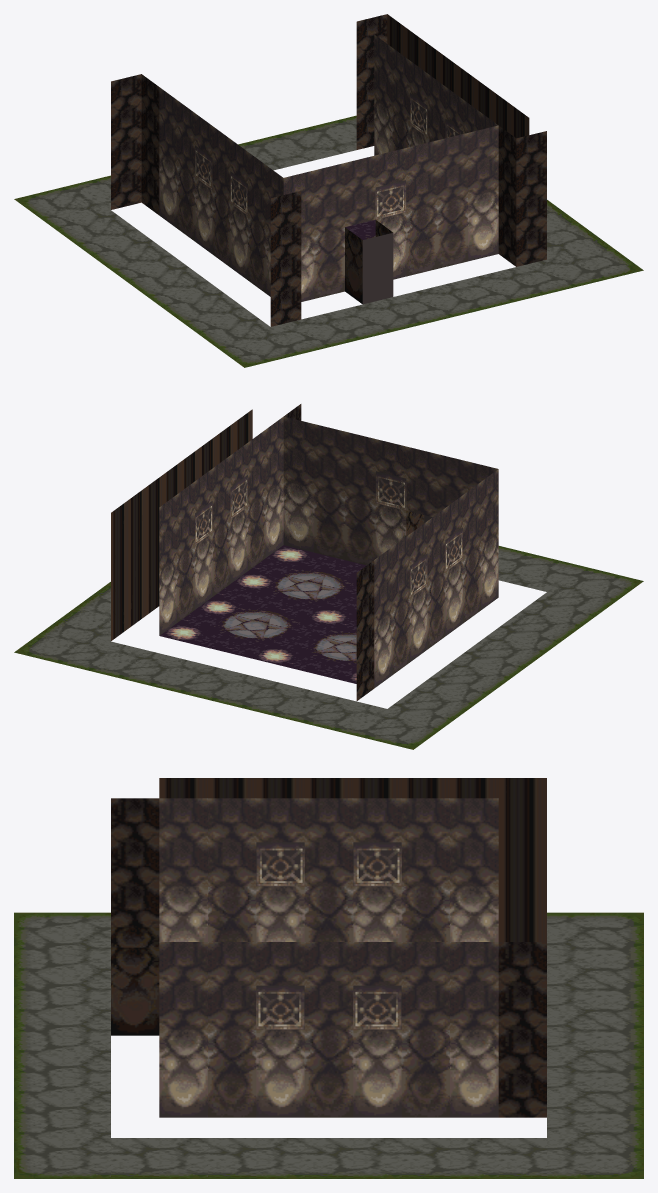
The model's file is catalog.obj.
3 views of the same model, one above another, from view 1: azimuth 30°, elevation 25°; view 2: azimuth 150°, elevation 25°; view 3: azimuth 270°, elevation 25° (orthographic). The views are drawn at different scales.
Visible parts, largest first — view 1: cell_21_9, cell_27_9, cell_25_9, cell_23_9, cell_22_9, cell_26_9, cell_28_16, cell_20_16, cell_24_9, cell_27_12, cell_27_16, cell_27_10 (+69 smaller); view 2: cell_21_9, cell_22_9, cell_23_9, cell_24_9, cell_21_12, cell_21_15, cell_21_11, cell_21_13, cell_21_14, cell_21_10, cell_27_9, cell_27_15 (+89 smaller); view 3: cell_27_9, cell_21_12, cell_21_9, cell_21_10, cell_21_11, cell_21_13, cell_21_14, cell_21_15, cell_21_16, cell_28_16, cell_27_12, cell_27_10 (+82 smaller).
Part boxes in pixels (x1,y1,x2,y2): cell_21_9: [468, 113, 546, 266]; cell_27_9: [265, 165, 314, 326]; cell_25_9: [345, 155, 393, 304]; cell_23_9: [406, 140, 437, 276]; cell_22_9: [437, 133, 467, 268]; cell_26_9: [314, 163, 344, 298]; cell_28_16: [111, 74, 141, 209]; cell_20_16: [356, 14, 405, 149]; cell_24_9: [375, 148, 406, 279]; cell_27_12: [212, 126, 230, 266]; cell_27_16: [141, 74, 159, 214]; cell_27_10: [248, 152, 265, 292]; cell_21_9: [265, 404, 314, 565]; cell_22_9: [297, 424, 344, 572]; cell_23_9: [327, 431, 375, 580]; cell_24_9: [375, 439, 406, 558]; cell_21_12: [212, 456, 260, 604]; cell_21_15: [159, 495, 207, 643]; cell_21_11: [230, 443, 278, 591]; cell_21_13: [195, 468, 242, 617]; cell_21_14: [177, 481, 225, 630]; cell_21_10: [248, 430, 295, 578]; cell_27_9: [468, 461, 498, 609]; cell_27_15: [344, 547, 392, 688]; cell_27_9: [111, 798, 207, 941]; cell_21_12: [304, 942, 353, 1117]; cell_21_9: [159, 942, 207, 1117]; cell_21_10: [208, 942, 256, 1117]; cell_21_11: [256, 942, 304, 1117]; cell_21_13: [353, 942, 401, 1117]; cell_21_14: [401, 942, 449, 1117]; cell_21_15: [450, 942, 498, 1117]; cell_21_16: [498, 942, 546, 1117]; cell_28_16: [498, 778, 546, 941]; cell_27_12: [304, 798, 353, 941]; cell_27_10: [208, 798, 256, 941].
Bounding box in the file's own units: 0.2031 × 0.0625 × 0.2031.
Materials: 10 (10 with a texture image).
